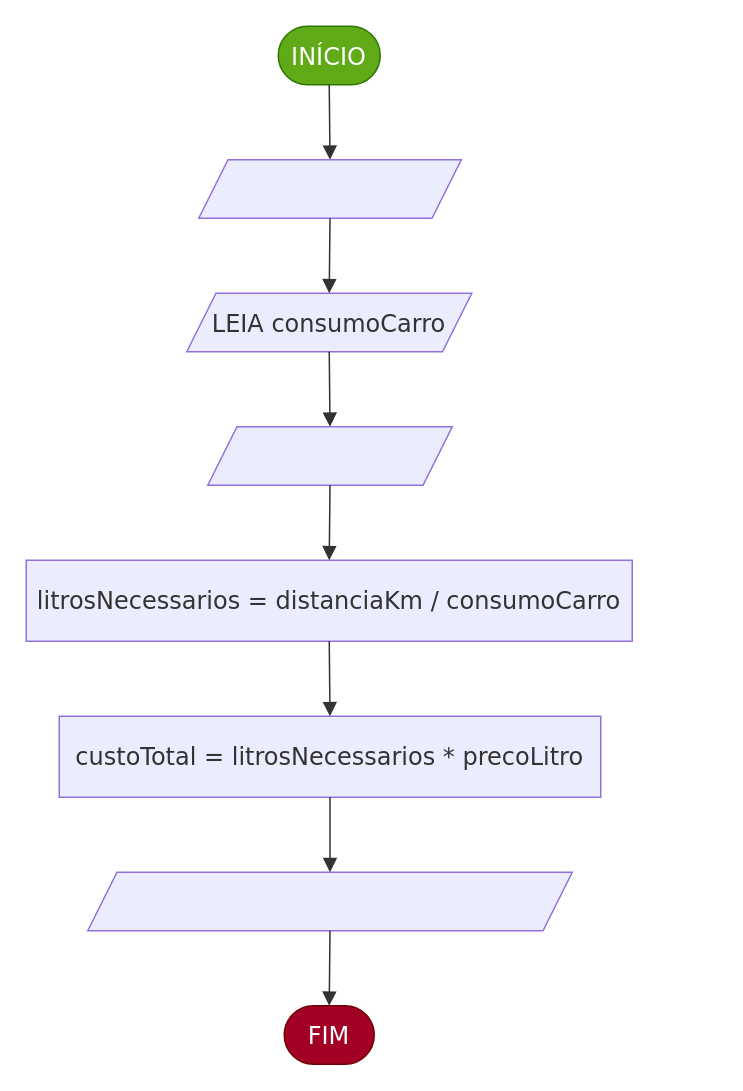
Image size: 743x1091. Some labels were removed from this diagram. The box of each missing label's shape, as (x1, y1, x2, y2) in pixels:
ESCREVA litrosNecessarios, custoTotal: (86, 871, 572, 931)
LEIA distanciaKm: (197, 158, 461, 218)
LEIA precoLitro: (206, 425, 452, 485)
